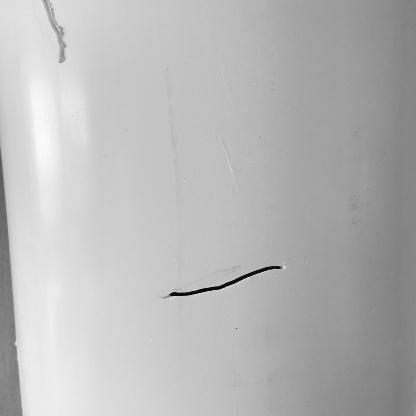fengxi: (163, 264, 290, 301)
